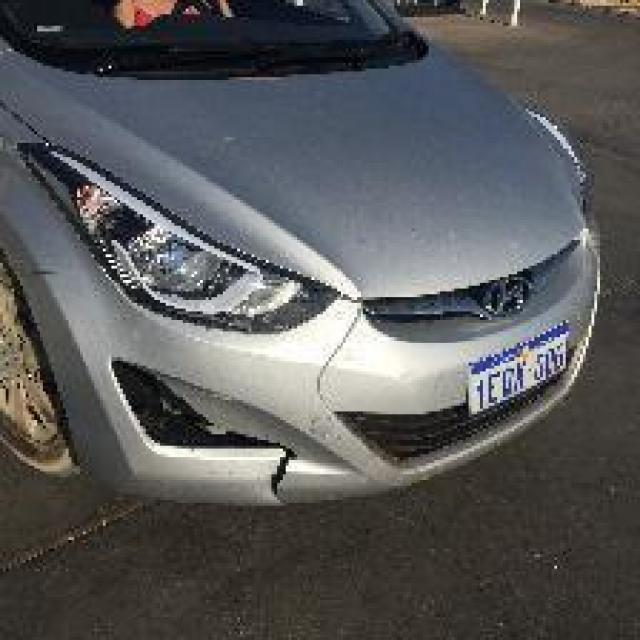damaged: (105, 357, 308, 520)
